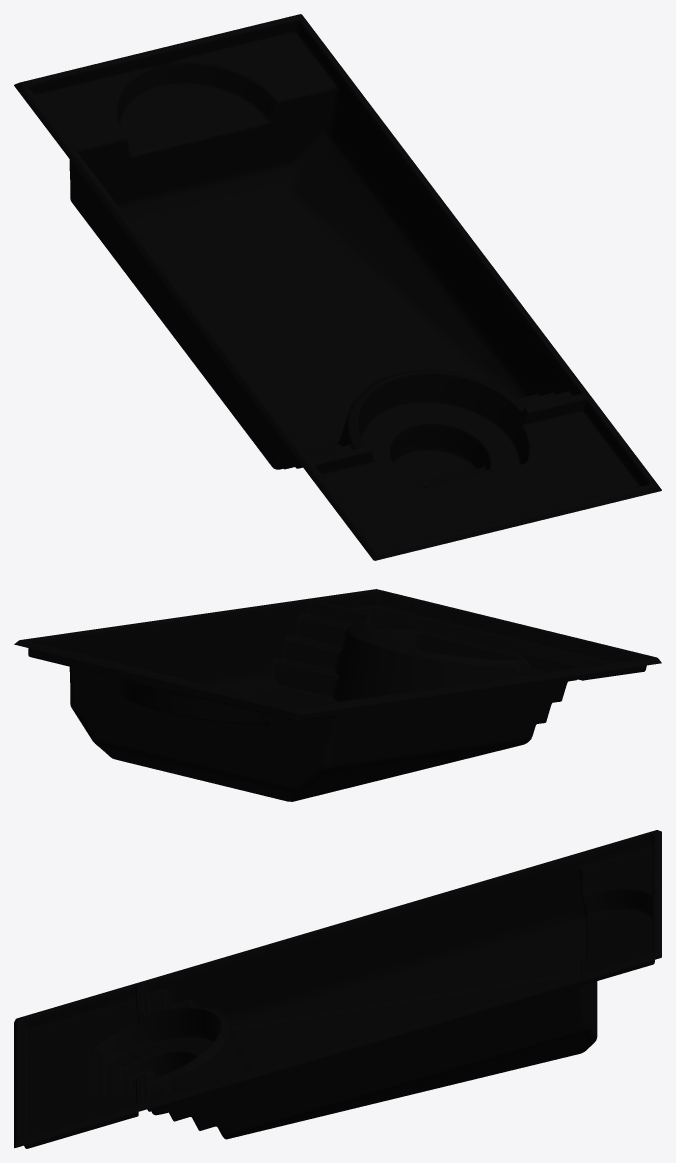
Rendered from Caesars Palace Beach.glb.
The picture shows the model from 3 angles, top to bottom: view 1: azimuth 30°, elevation 25°; view 2: azimuth 150°, elevation 25°; view 3: azimuth 270°, elevation 25°; orthographic projection. The views are drawn at different scales.
Parts seen in each view (by area): view 1: node_id4; view 2: node_id4; view 3: node_id4.
Boxes of the visible parts, box(x1,y1,x2,y2) form: node_id4: box(14, 14, 661, 560); node_id4: box(14, 589, 661, 801); node_id4: box(14, 830, 661, 1148).
Size of the model in its own units: 0.512 by 0.3906 by 1.11.
Materials: 1 (1 with a texture image).
